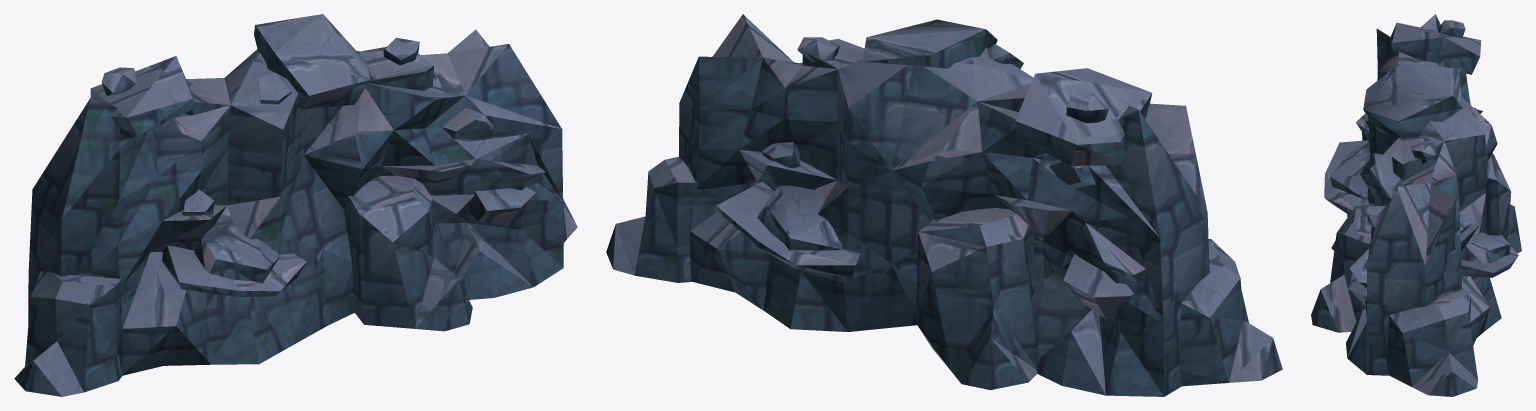
File: rubble_large.gltf
3 views of the same model, side by side, from view 1: azimuth 30°, elevation 25°; view 2: azimuth 150°, elevation 25°; view 3: azimuth 270°, elevation 25° (orthographic). The views are drawn at different scales.
Visible parts, largest first — view 1: rubble_large; view 2: rubble_large; view 3: rubble_large.
Part boxes in pixels (x1,y1,x2,y2): rubble_large: (14,14,577,396); rubble_large: (606,14,1282,396); rubble_large: (1311,14,1521,396).
Size of the model in its own units: 8.13 by 3.5 by 3.18.
Materials: 2 (2 with a texture image).
